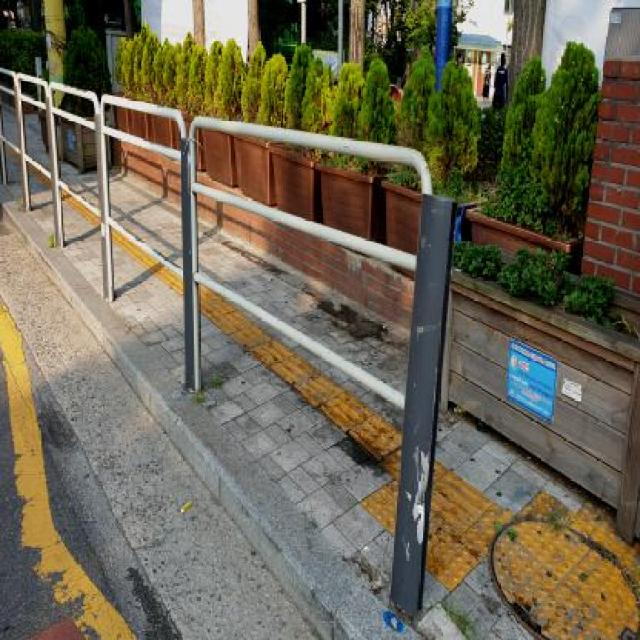bump: (120, 333, 387, 640)
fence: (166, 78, 505, 640), (12, 56, 231, 378)
